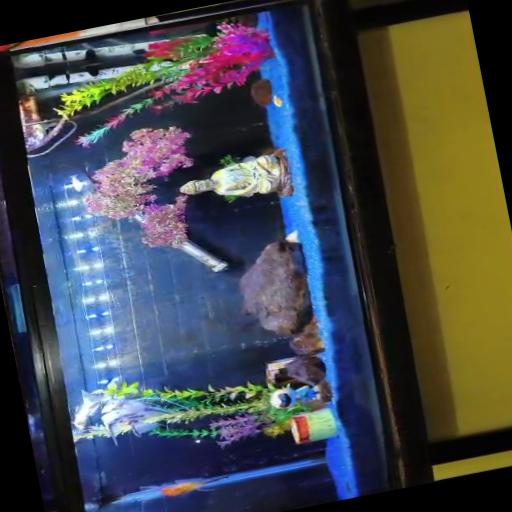Fish: (101, 398, 167, 442), (142, 475, 227, 495), (73, 389, 106, 430), (71, 175, 85, 190), (273, 94, 283, 105)
